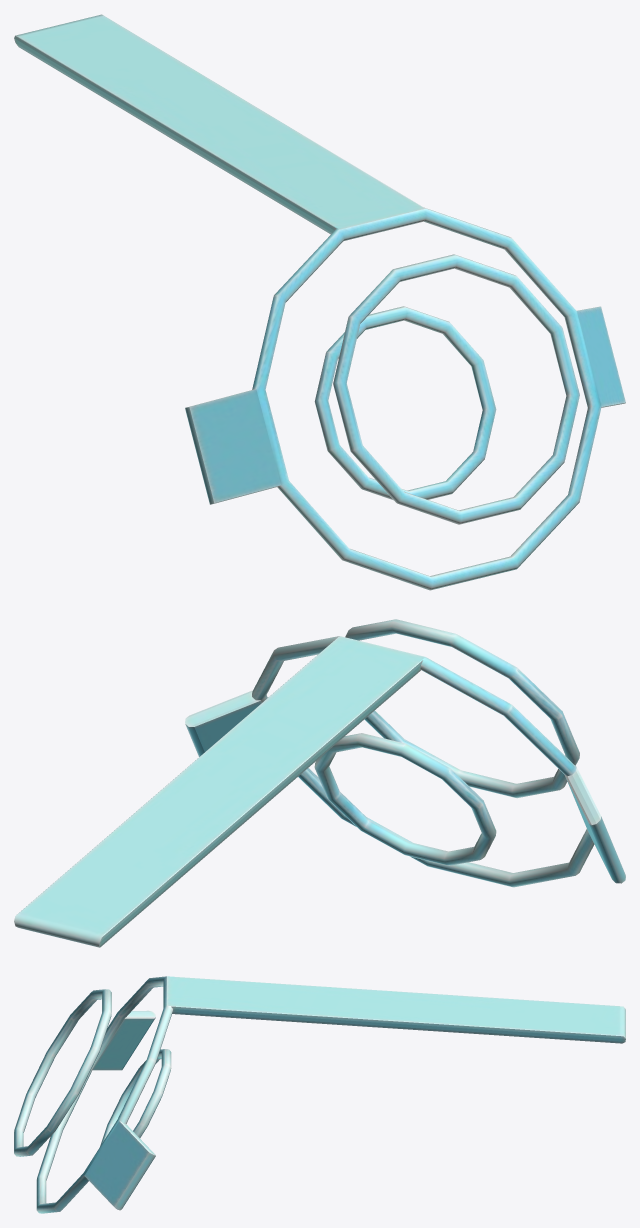
The model's file is vivewand.obj.
The picture shows the model from 3 angles, top to bottom: view 1: azimuth 30°, elevation 25°; view 2: azimuth 150°, elevation 25°; view 3: azimuth 270°, elevation 25°; orthographic projection. The views are drawn at different scales.
Visible parts, largest first — view 1: Torus004; view 2: Torus004; view 3: Torus004.
Boxes of the visible parts, x1,y1,x2,y2 form: Torus004: (14,14,625,590); Torus004: (14,619,625,947); Torus004: (14,976,625,1213).
Bounding box in the file's own units: 25.56 × 17.35 × 46.31.
1 material, 1 textured.
